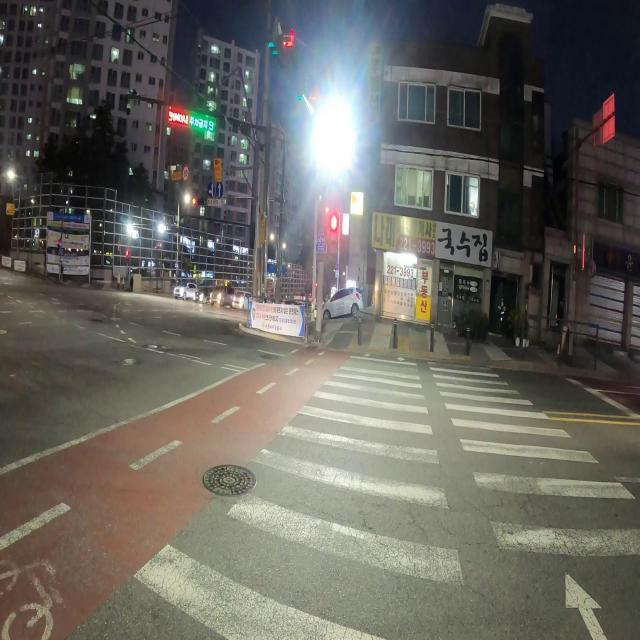crosswalk: (127, 350, 639, 640)
